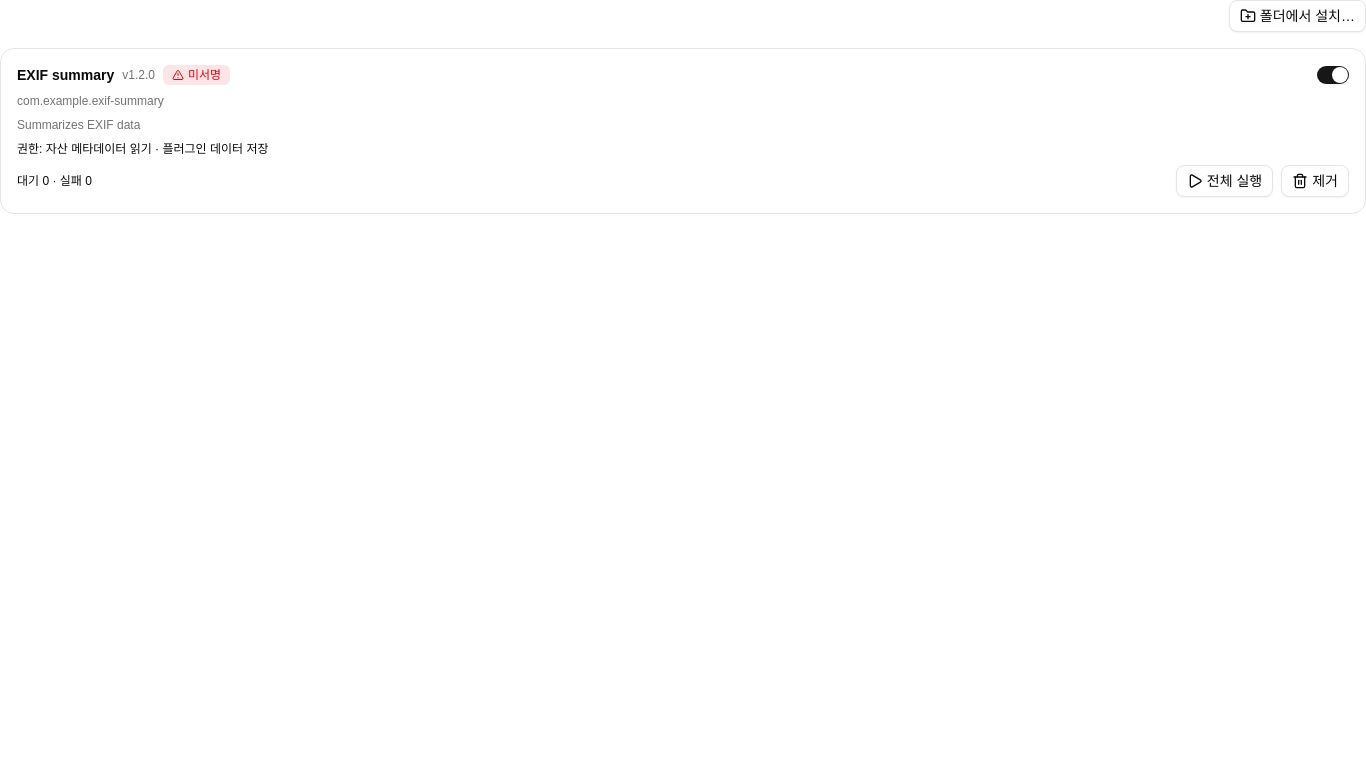
it: settings > plugins › T-ui-plugin-06 [Business rule] upgrade with added permissions highlights them and installs only after re-consent with the full set
Later steps or results of the test are not shown.
Click the button "폴더에서 설치…" at (1297, 16), box [1229,0,1365,32]
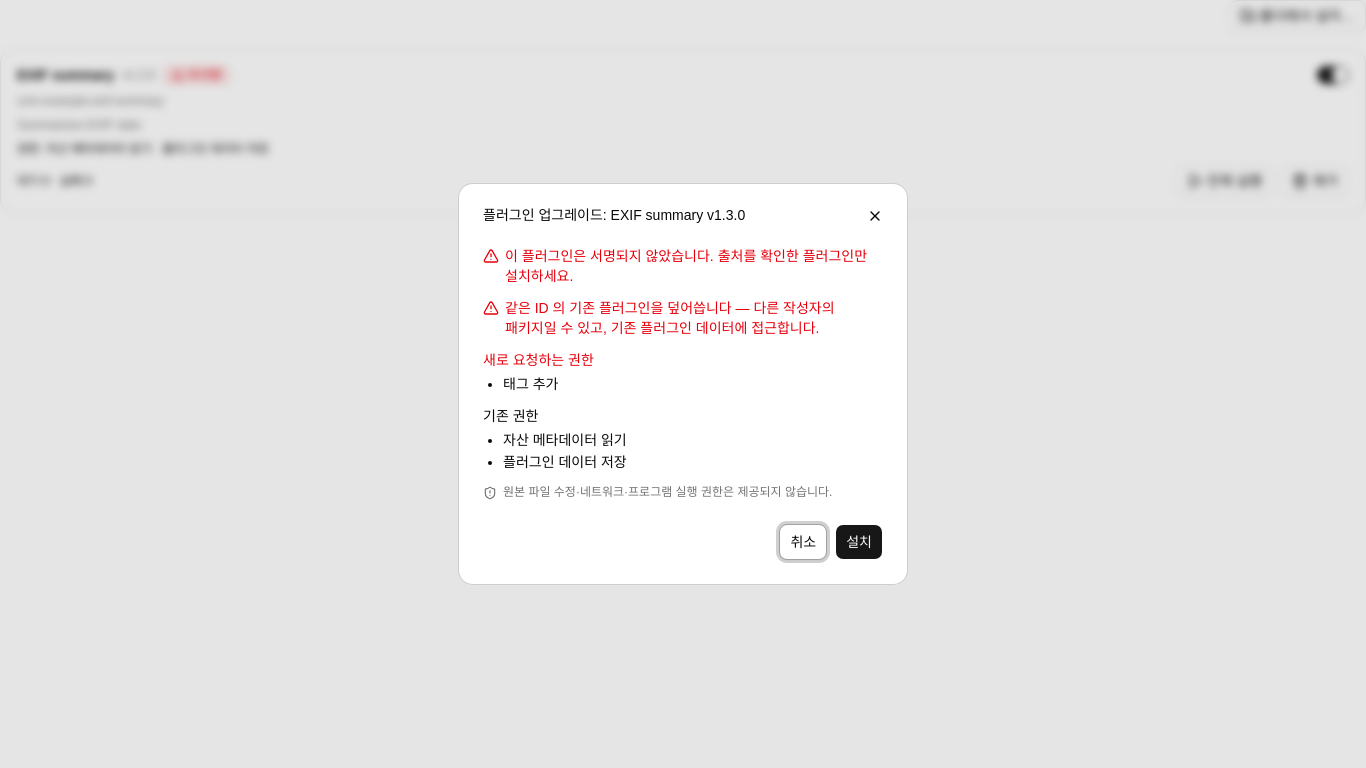
Check: the list items read "태그 추가", in this order, box [503,376,558,392]
Check: the list items read "자산 메타데이터 읽기", "플러그인 데이터 저장", in this order, box [503,432,627,448]; [503,454,627,470]
